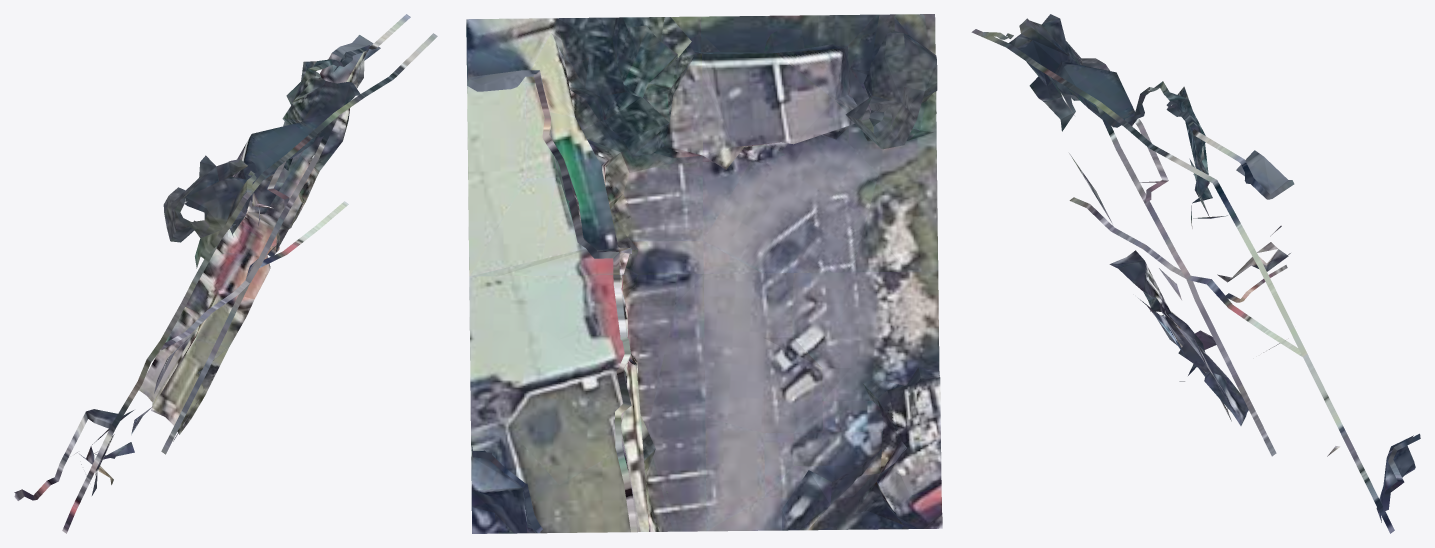
3 renders of one model, left to right at view 1: azimuth 30°, elevation 25°; view 2: azimuth 150°, elevation 25°; view 3: azimuth 270°, elevation 25°, orthographic. The views are drawn at different scales.
Size of the model in its own units: 40.46 by 36.57 by 35.27.
Materials: 2 (2 with a texture image).
